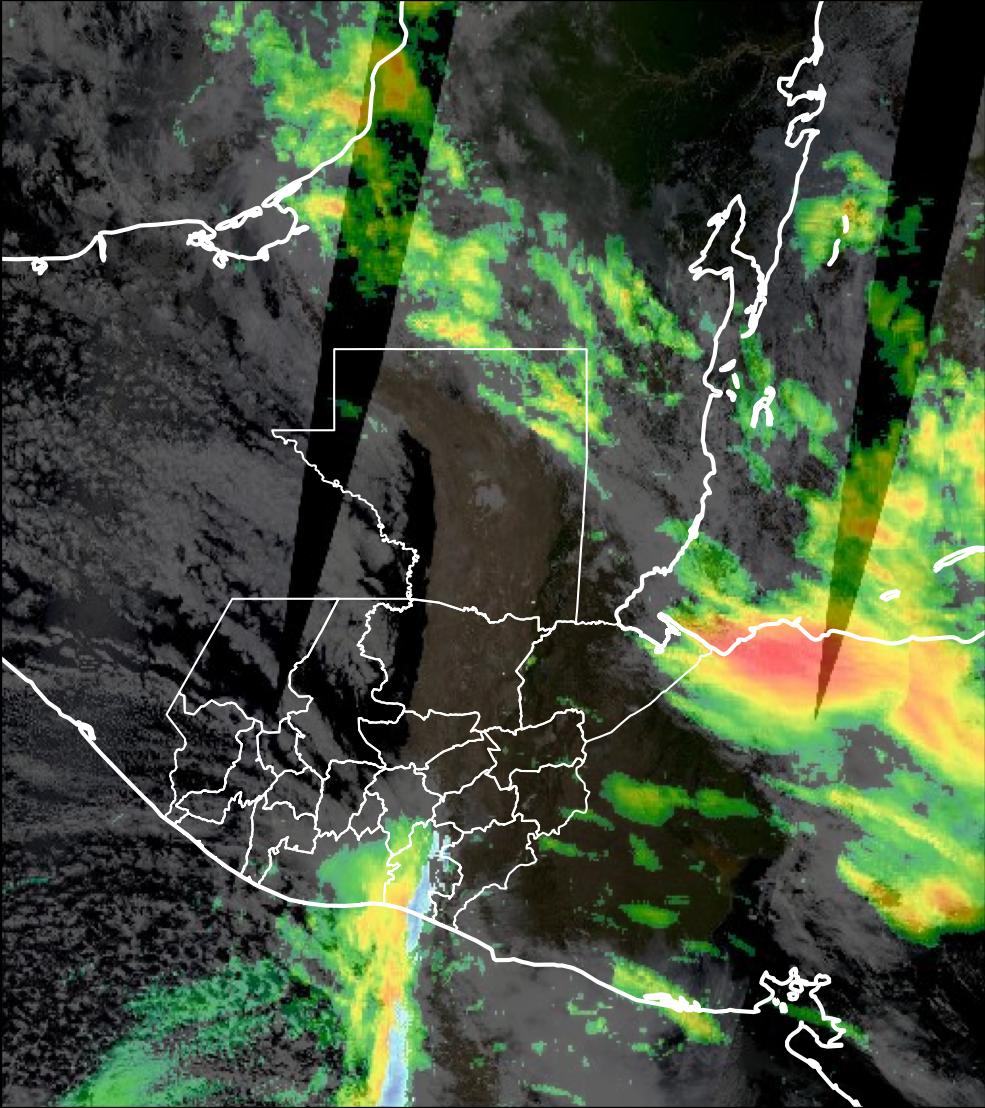precipitacion: (684, 591, 920, 739)
